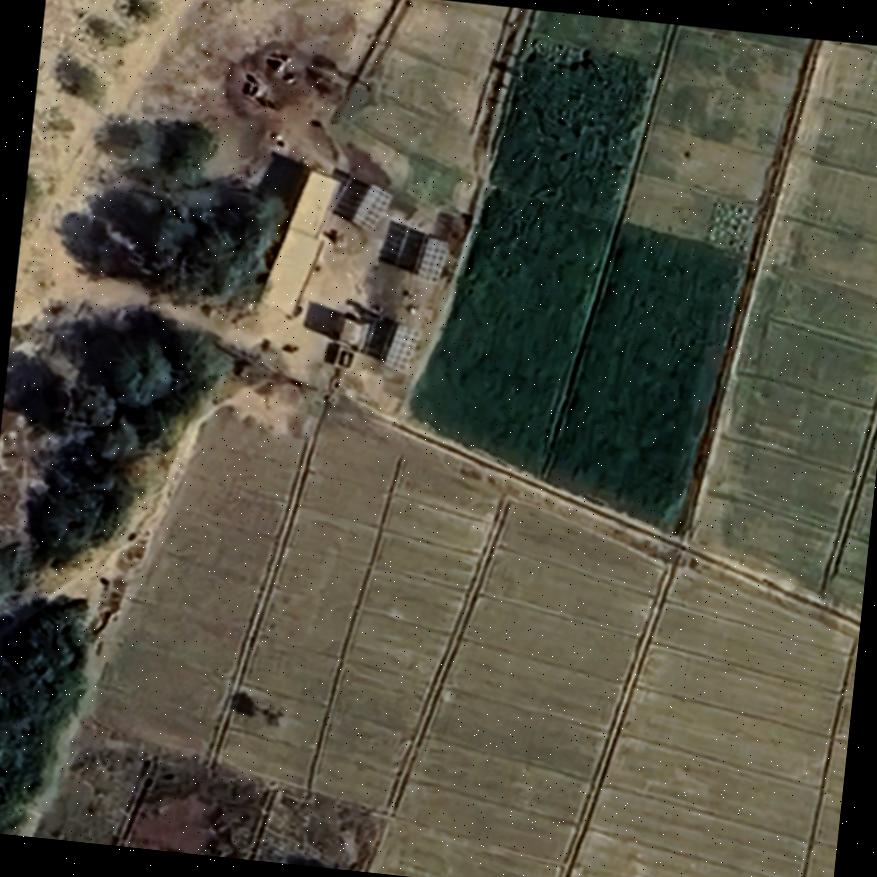Solarpanel: (346, 177, 395, 236), (379, 320, 424, 376), (414, 232, 452, 283)
